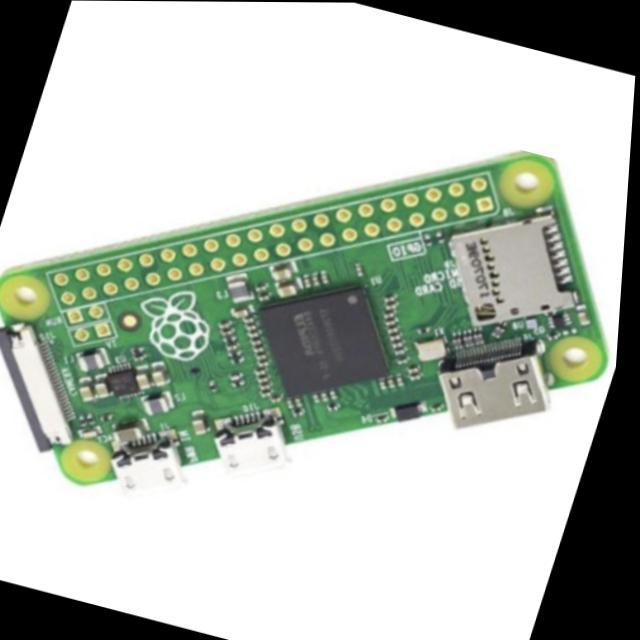Raspberry-Pi-Zero: (1, 154, 608, 490)
